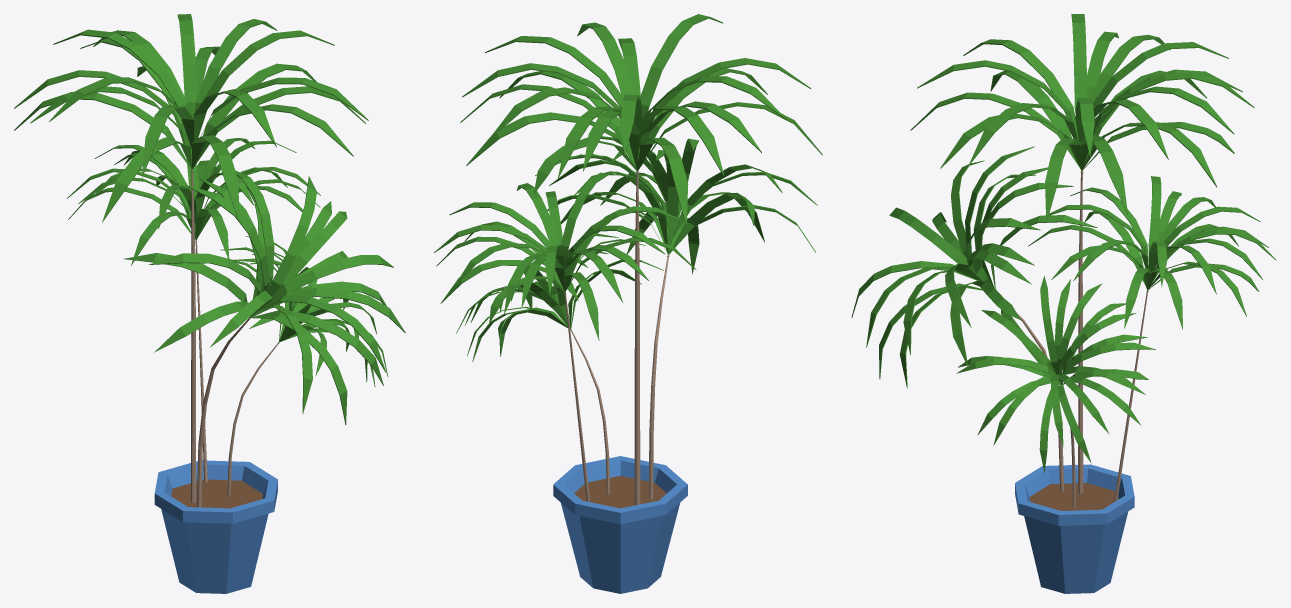
Rendered from Flower_10.fbx.
3 views of the same model, side by side, from view 1: azimuth 30°, elevation 25°; view 2: azimuth 150°, elevation 25°; view 3: azimuth 270°, elevation 25° (orthographic). The views are drawn at different scales.
Visible parts, largest first — view 1: Flower_10; view 2: Flower_10; view 3: Flower_10.
Boxes of the visible parts, x1,y1,x2,y2 form: Flower_10: [14, 14, 405, 593]; Flower_10: [434, 14, 822, 593]; Flower_10: [851, 14, 1276, 593].
Size of the model in its own units: 116 by 137 by 180.
